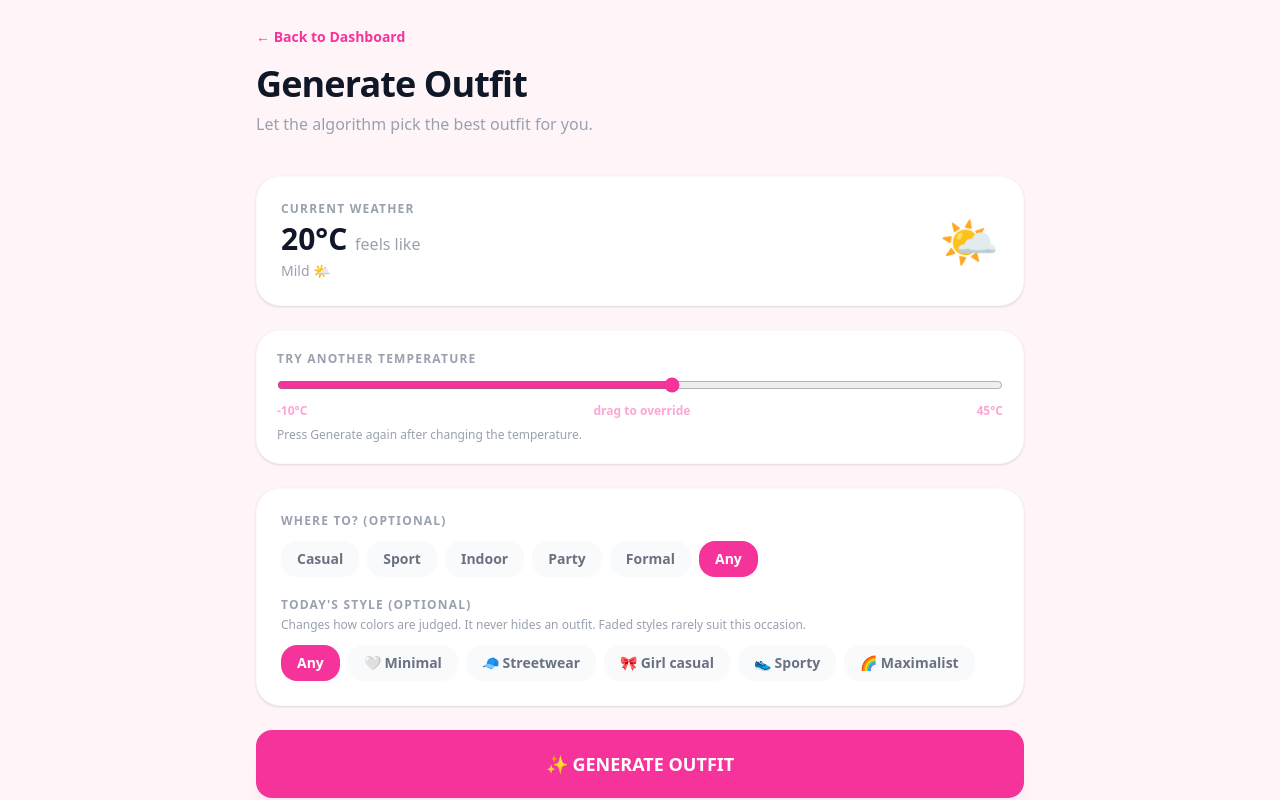
Test case: Suggest page: add to calendar › saves the outfit, then the calendar entry, and shows the saved link
Click the button "✨ GENERATE OUTFIT": [640, 764] box [256,730,1024,798]
(page scrolled)
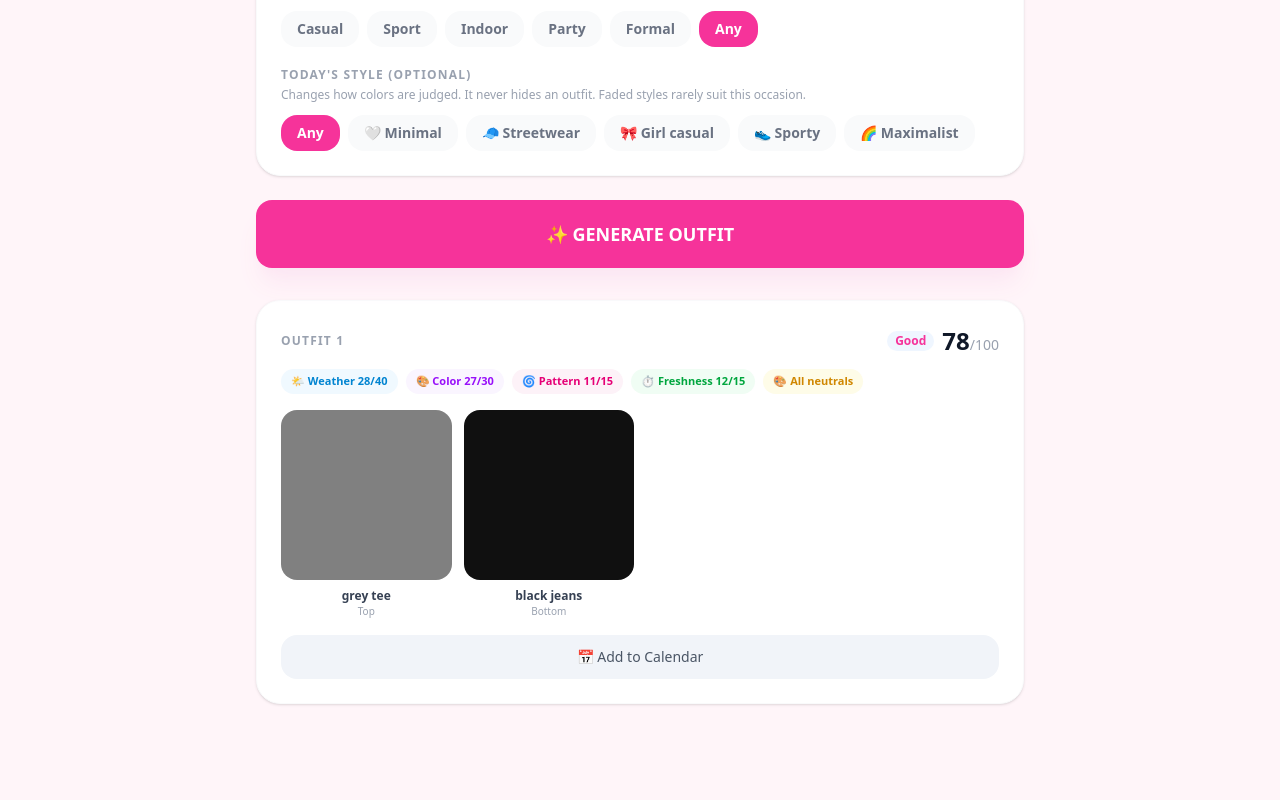
Check: the text "Outfit 1" is shown, box [281,333,344,349]
Check: the button "📅 Add to Calendar" is shown
Click the button "📅 Add to Calendar": [640, 657] box [281,635,999,679]
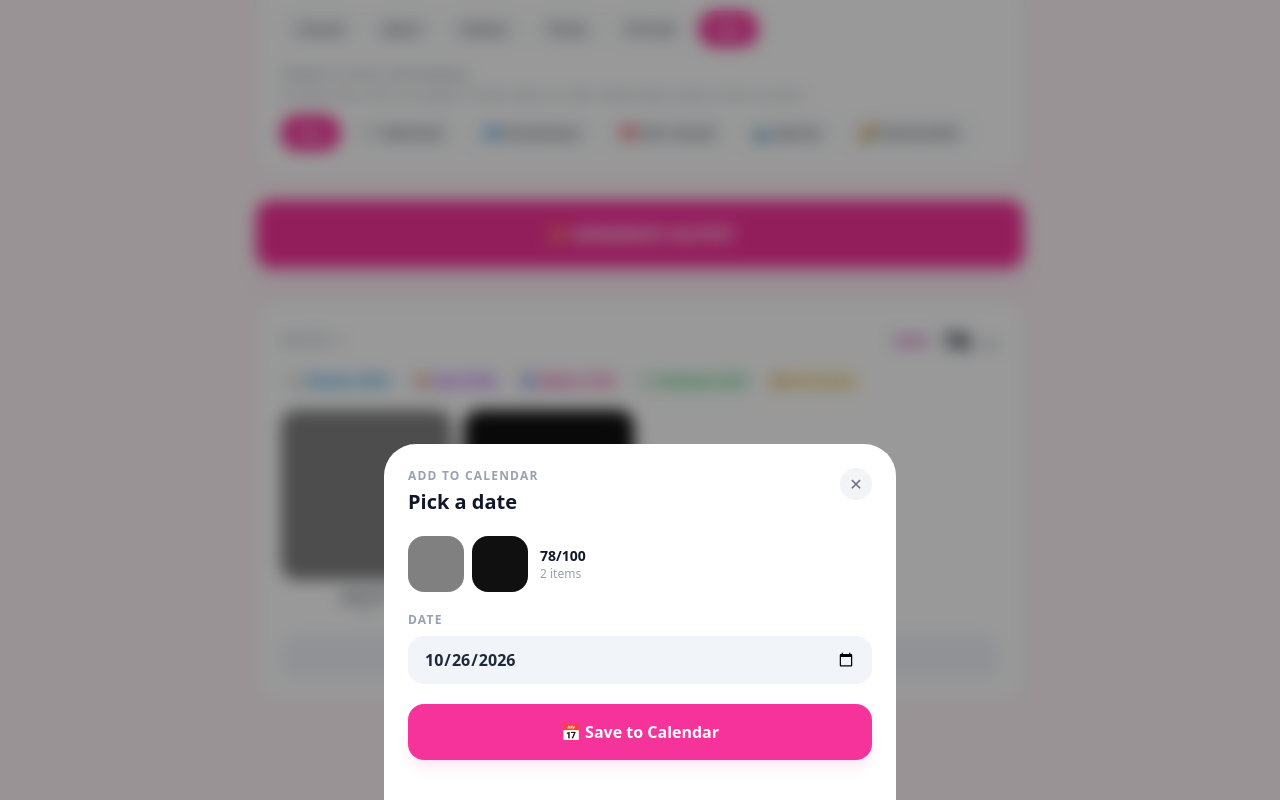
Check: the text "Pick a date" is shown, box [408,488,517,515]
Check: the button "📅 Save to Calendar" is shown
Click the button "📅 Save to Calendar": [640, 732] box [408,704,872,760]
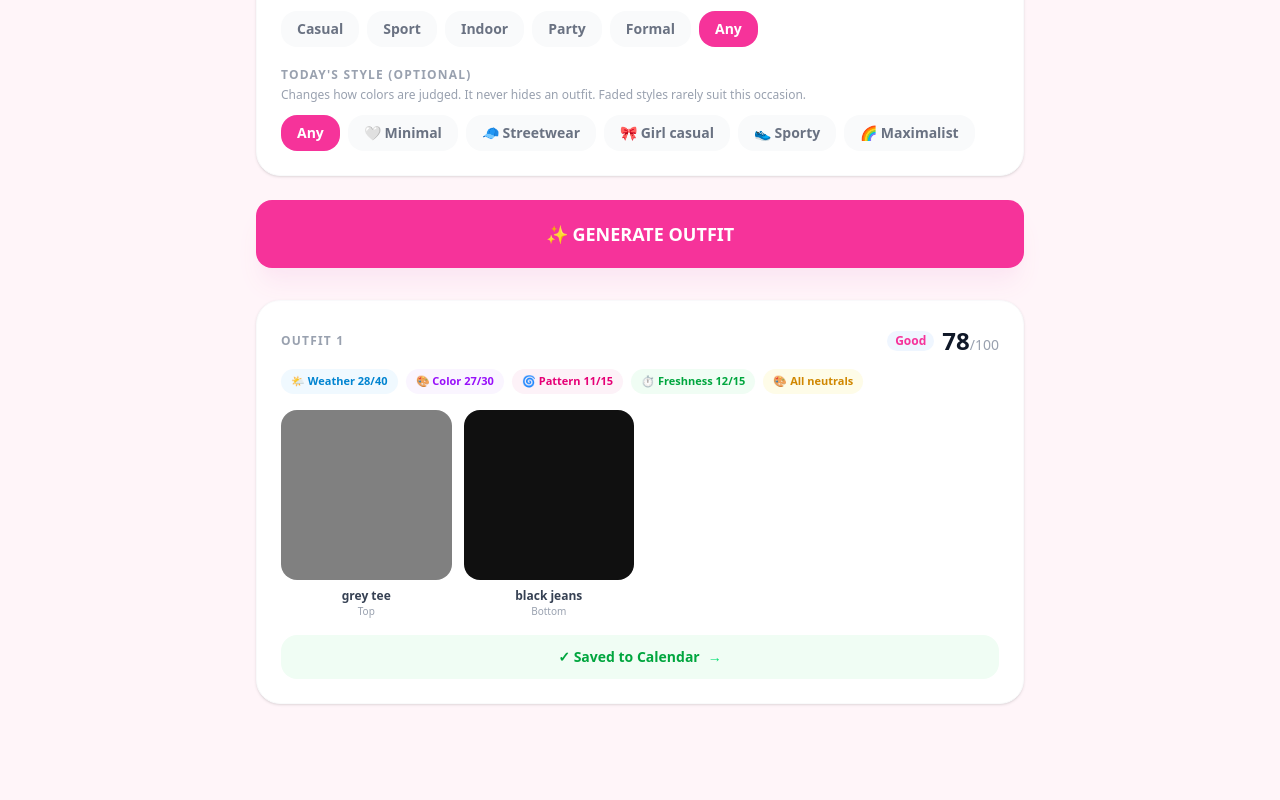
Check: the text "Saved to Calendar" is shown, box [281,635,999,679]
Check: the dialog is gone
